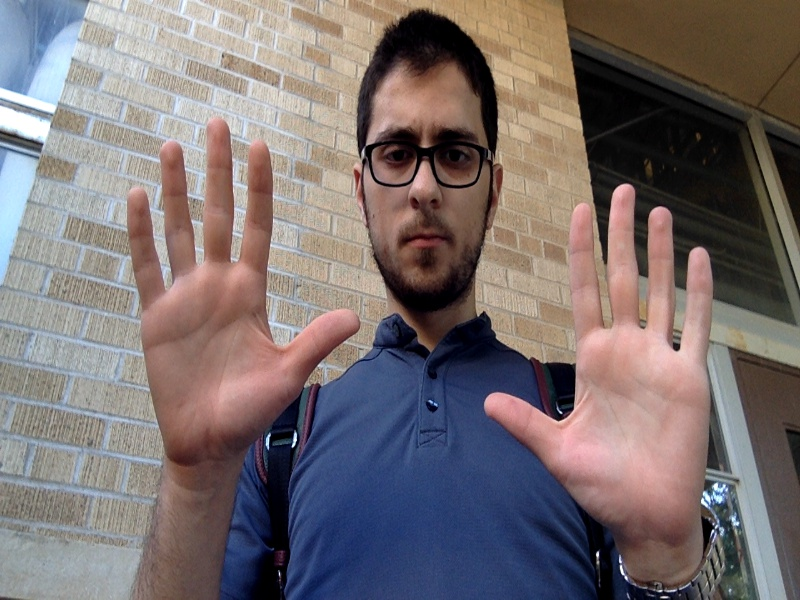5-hand: (484, 182, 712, 555), (126, 120, 360, 468)
